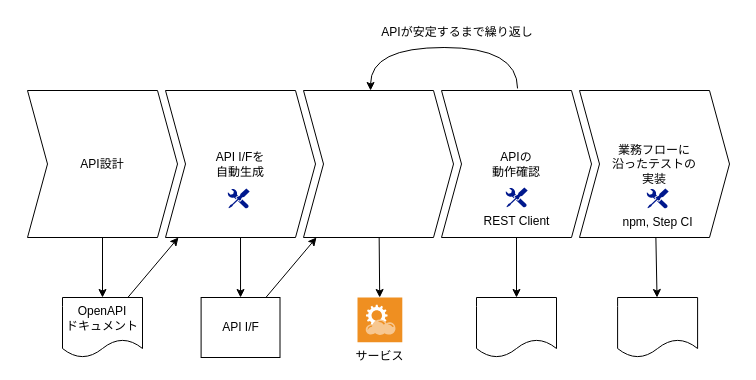
The diagram is 756 pixels wide and 380 high, and some of its shapes have lost their labels. The shapes that lost their labels are listed below. From the top down, each one's centre as x and y in pixels, then its label:
(378,164): APIの 内部実装
(238,198): openapi-generator
(516,327): REST Client 定義ファイル
(657,327): ワークフロー定義ファイル
